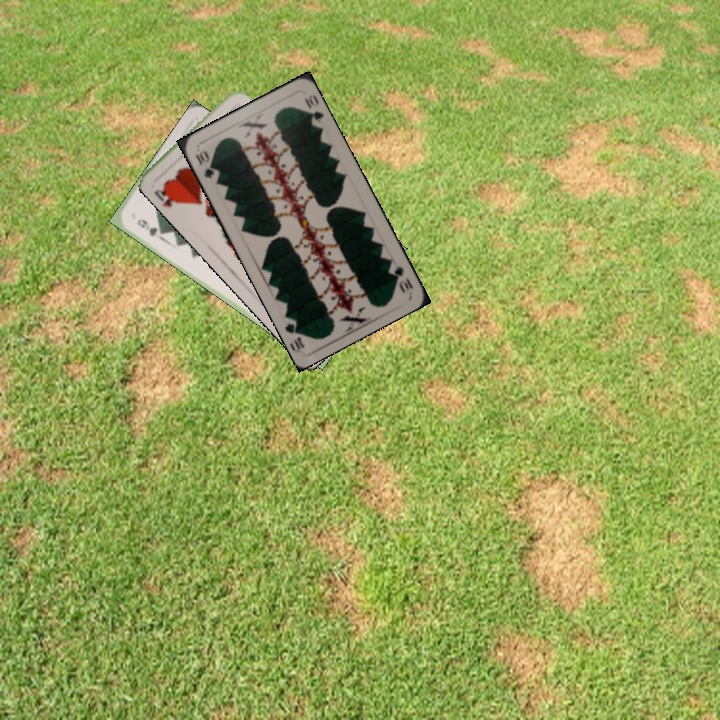G10: (385, 258, 416, 296), (191, 147, 219, 181)
G9: (133, 215, 160, 239)
HO: (150, 180, 183, 210)
